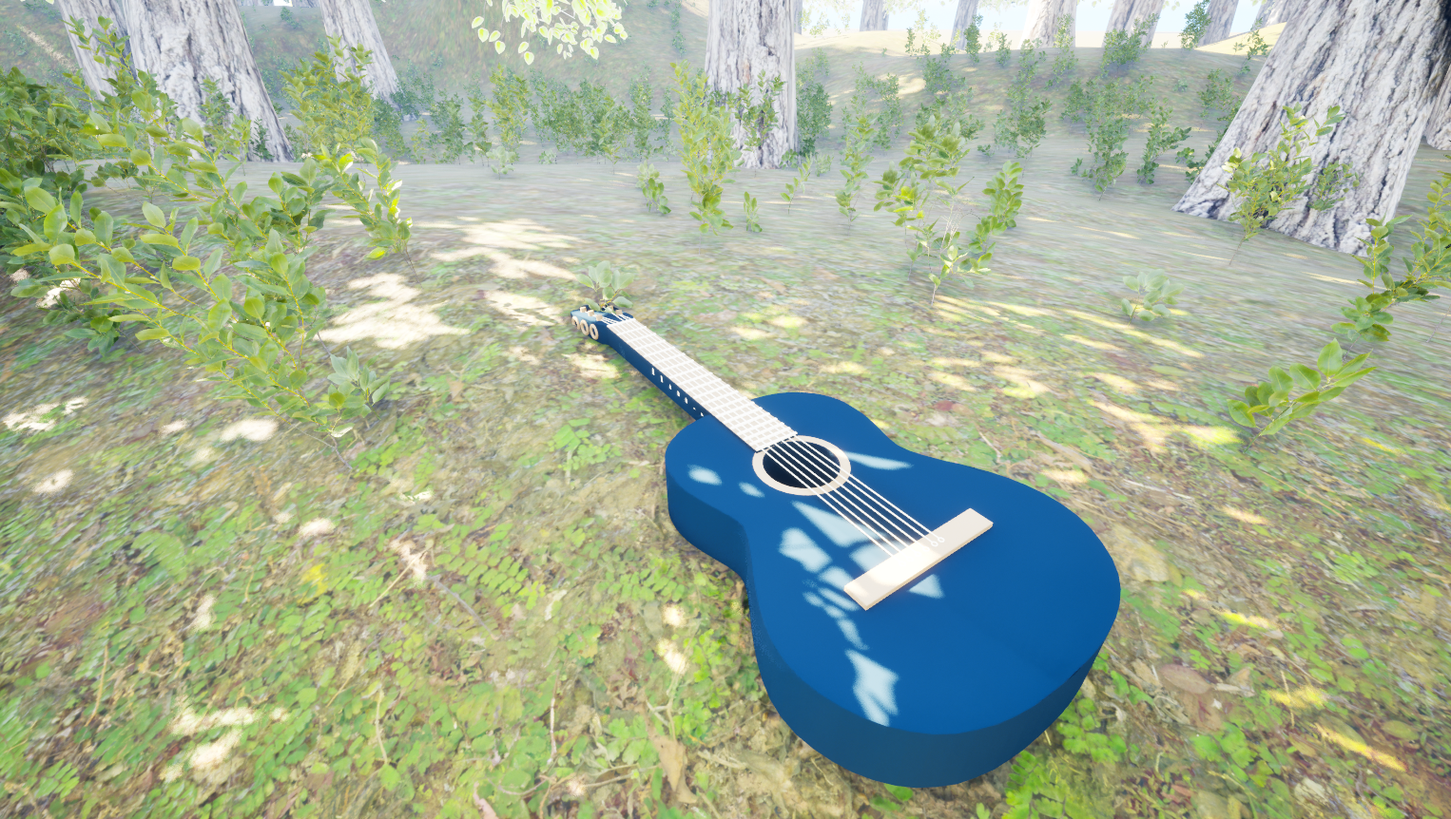Guitar: (481, 273, 1184, 819)
